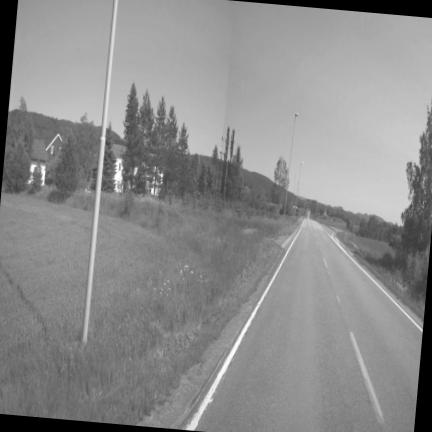Road: (196, 220, 422, 431)
